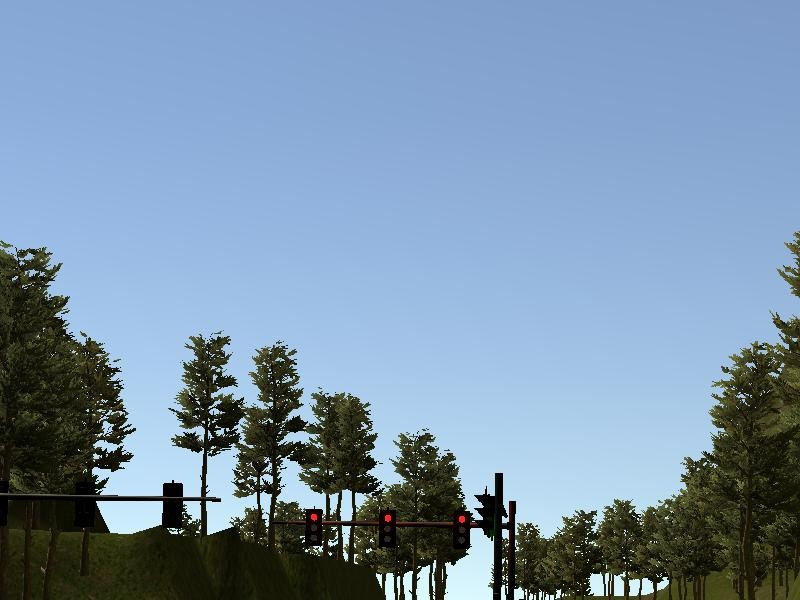Red: (378, 510, 397, 549), (304, 508, 323, 546), (453, 510, 469, 550)
